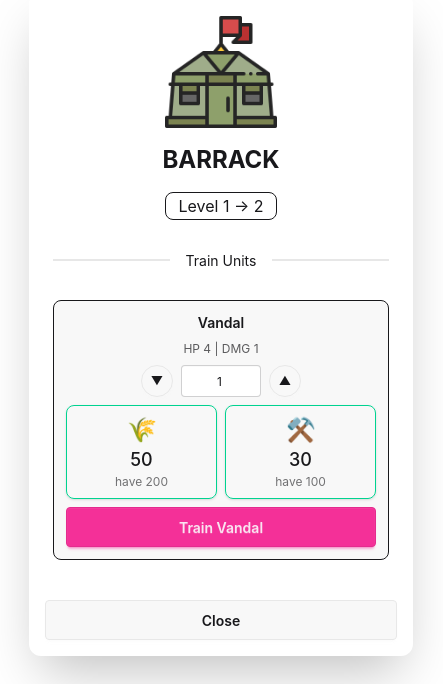
Test: BuildingUpgradeCard — bulk training quantity › disables the Train button when the full batch is unaffordable, without auto-correcting the quantity
Note: 4 Vandals cost 200 food / 120 iron — affordable on food, not on iron
Replace the text in the number field with test id "train-quantity-input" with "4" at (221, 381), box x1=181 y1=365 x2=261 y2=397
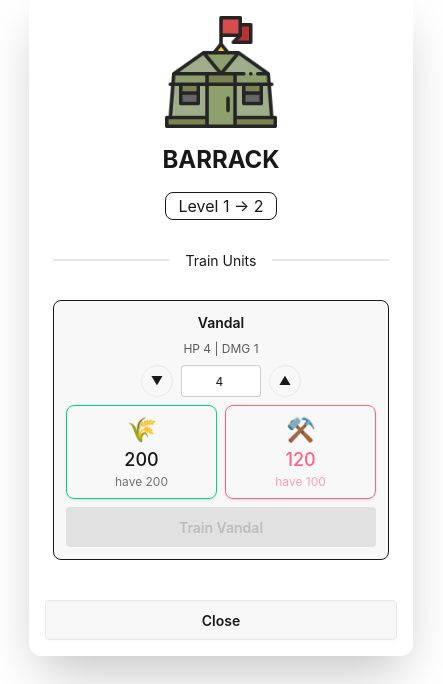
Check: the button with test id "train-vandal-button" is disabled, box x1=66 y1=507 x2=376 y2=547
Note: 2 Vandals cost 100 food / 60 iron — affordable
Replace the text in the number field with test id "train-quantity-input" with "2" at (221, 381), box x1=181 y1=365 x2=261 y2=397
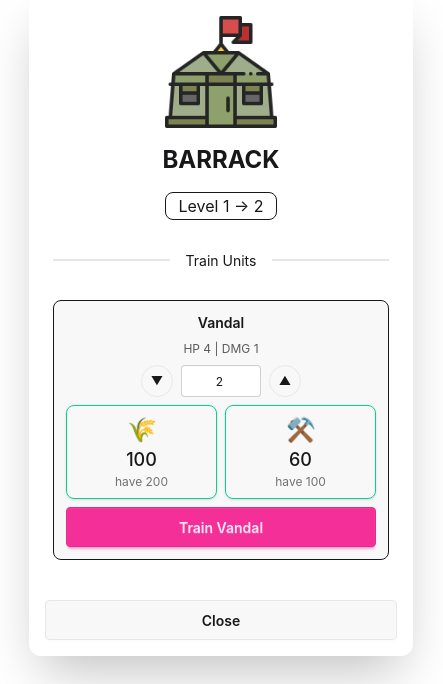
Check: the button with test id "train-vandal-button" is enabled, box x1=66 y1=507 x2=376 y2=547
